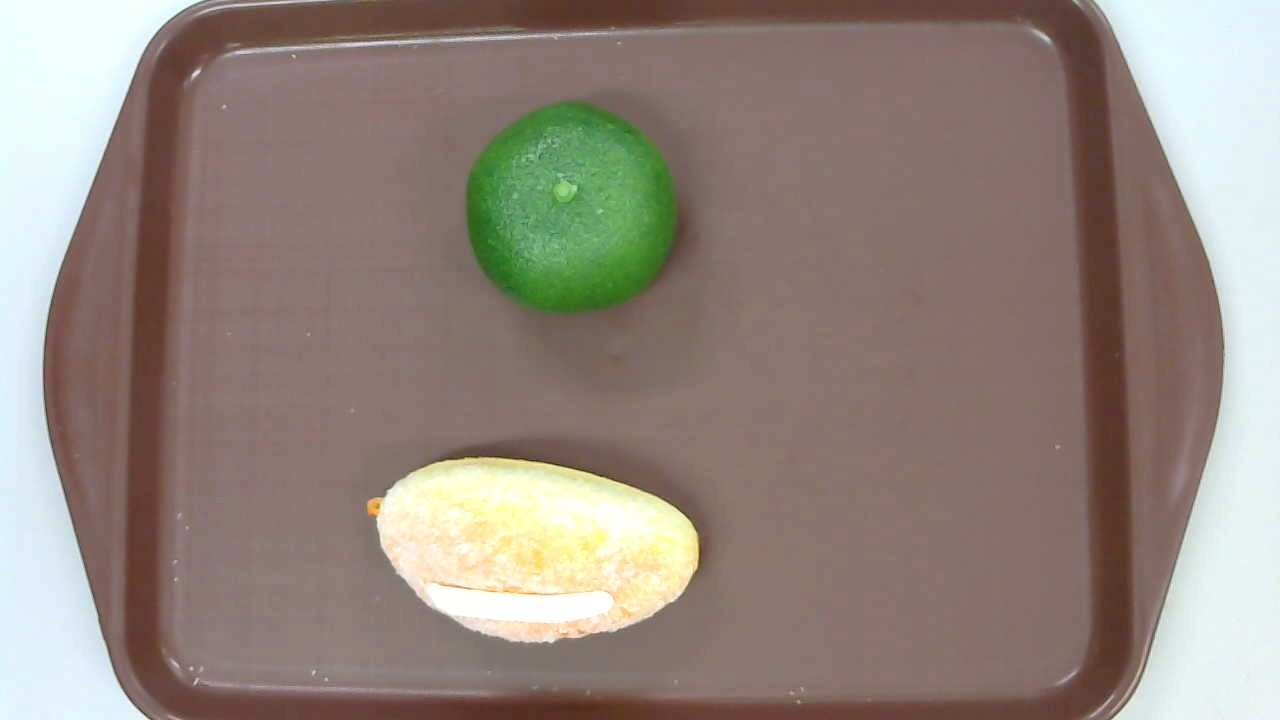coconut: (365, 458, 699, 646)
green orange: (466, 102, 680, 311)
